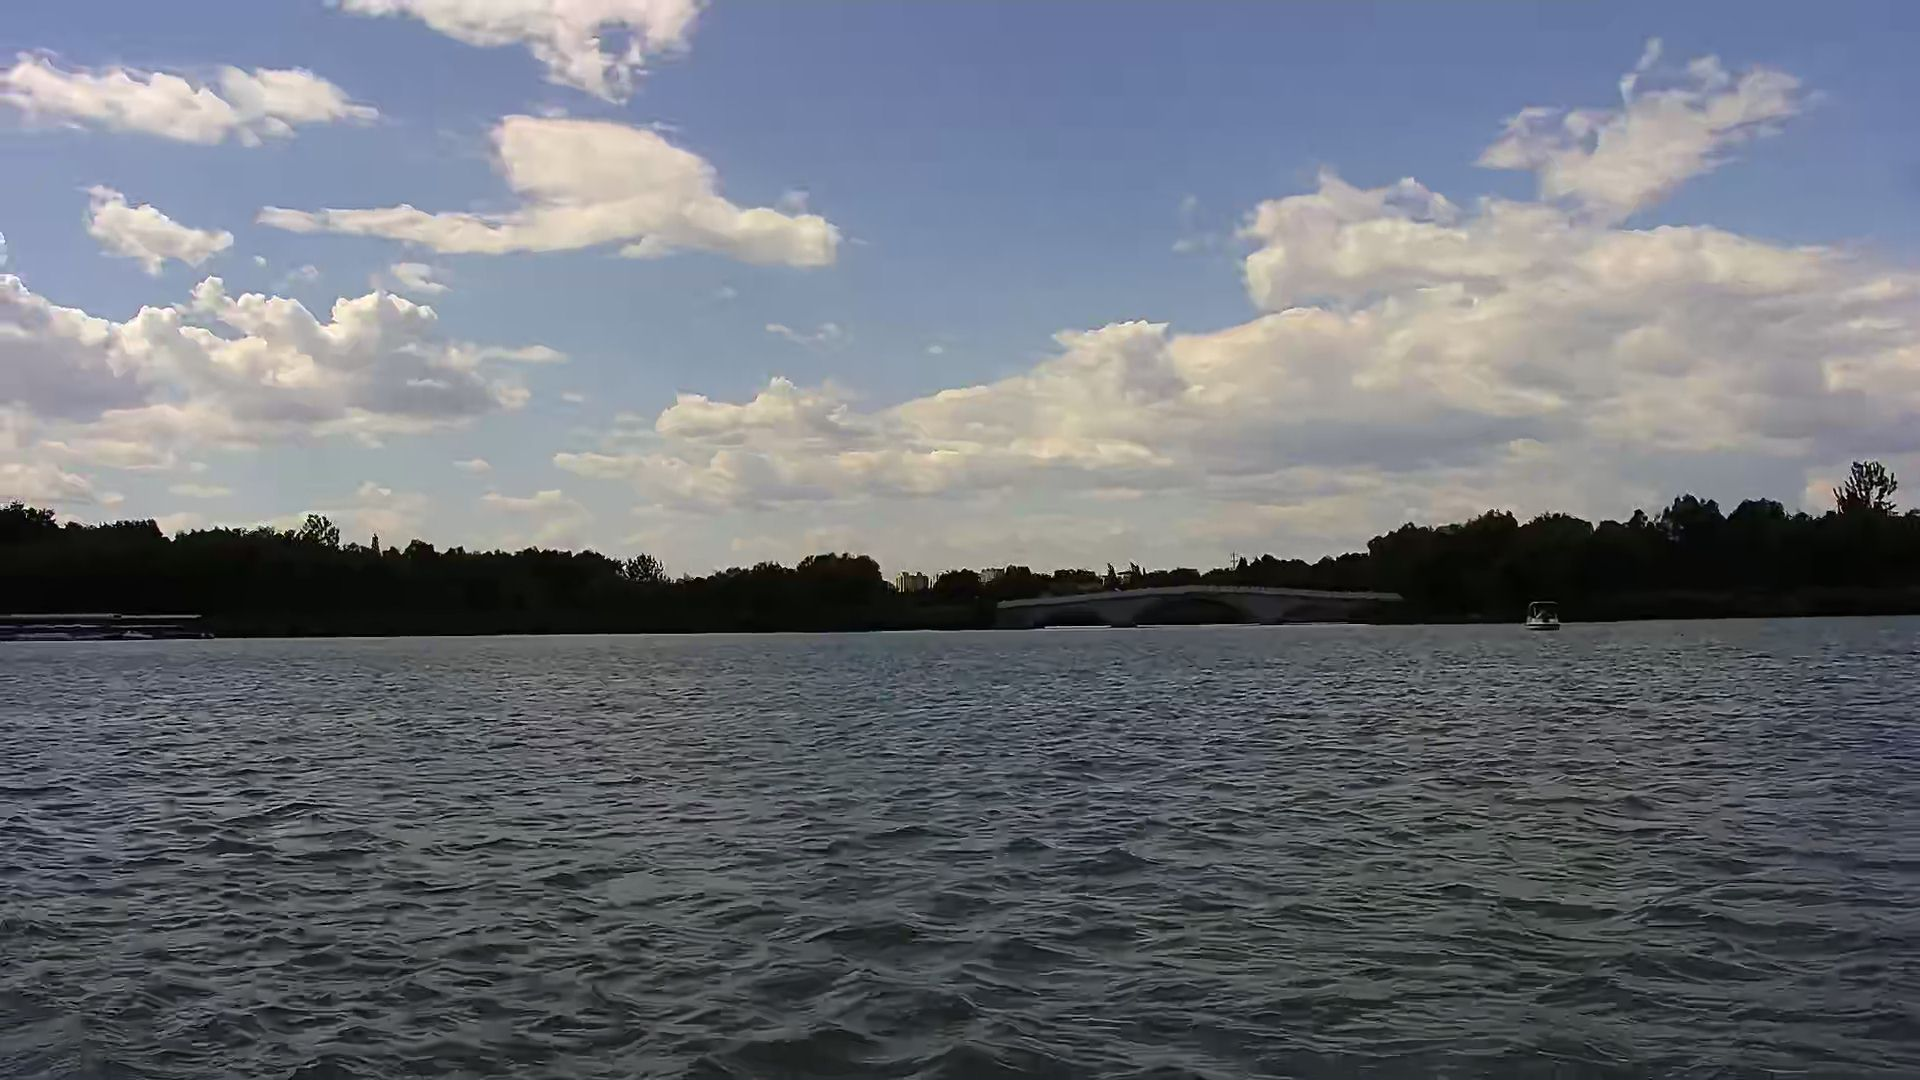boat: (1524, 588, 1571, 640)
bridge: (992, 582, 1414, 629)
